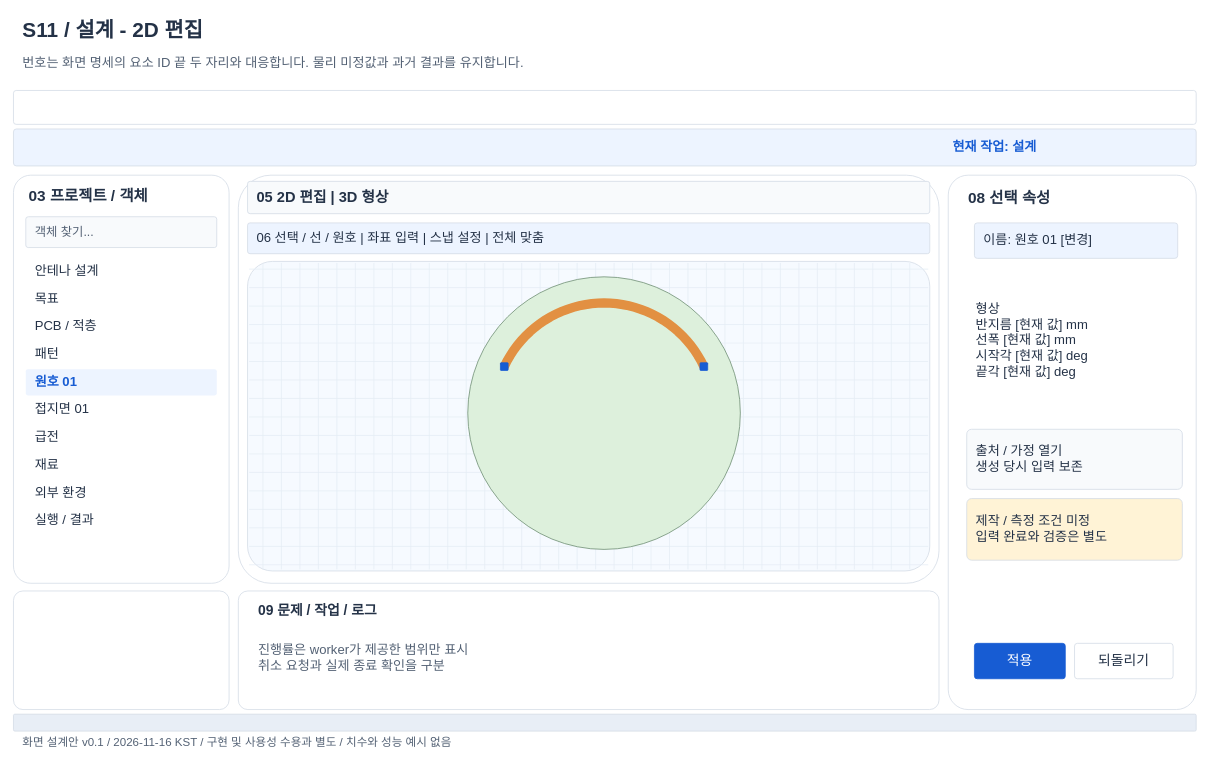
This 1210x767 diagram has some shape labels left out. The shapes that lost their labels are listed below. From the top down, each one's box as (x1, y1, x2, y2) in pixels, then its label:
(13, 90, 1196, 124): 01 TraceWave Studio / 안테나 설계 / 저장 필요
(13, 128, 1196, 166): 02 저장 실행 전 확인 STEP 출력 설계 해석 결과 비교 출력
(467, 276, 740, 549): 07 선택: 원호 01
(13, 590, 229, 710): 04 레이어 / 표시 표시 활성 층 [x] Top Copper [x] Substrate
(13, 713, 1196, 731): 10 단위 mm | 활성 층 Top Copper | 스냅 끔 | worker 상태 별도 표시
